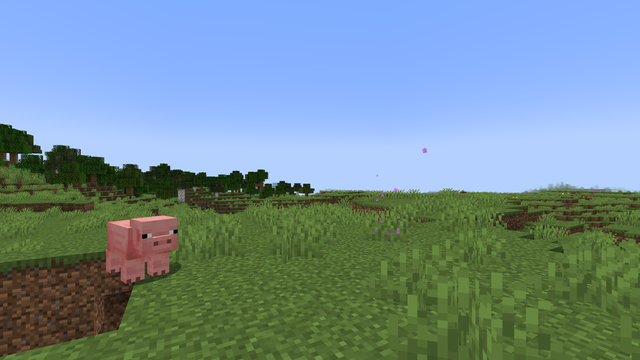cochons: (99, 216, 168, 286)
